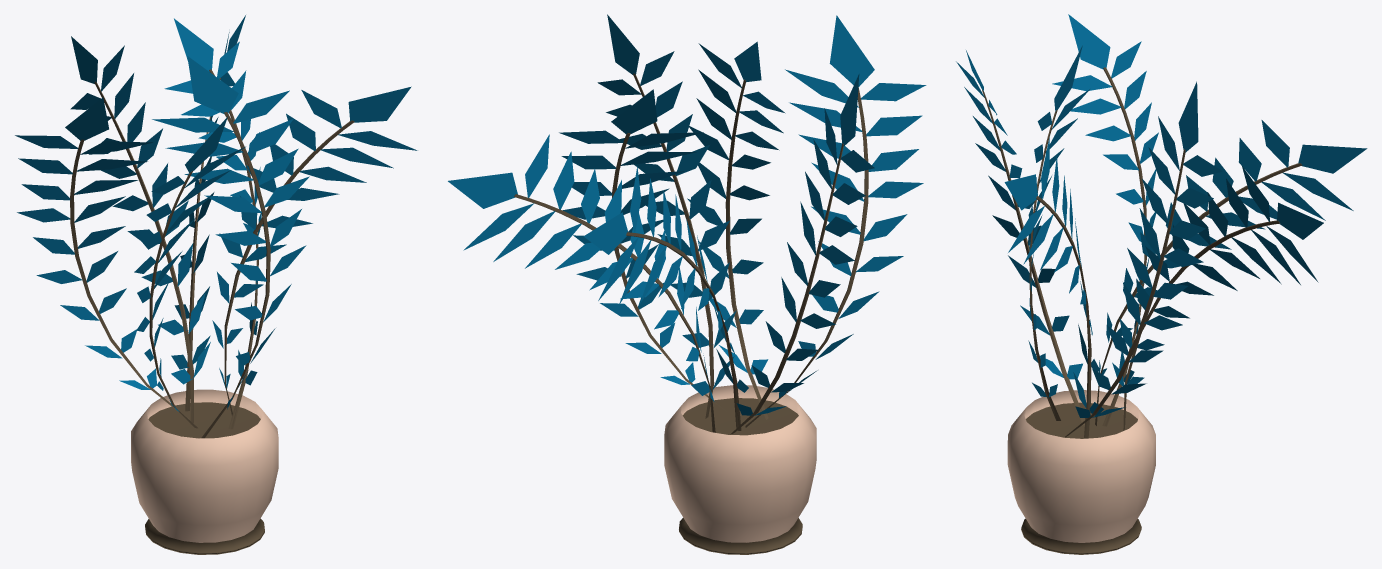
The model's file is plante_bleu.fbx.
The picture shows the model from 3 angles, left to right: view 1: azimuth 30°, elevation 25°; view 2: azimuth 150°, elevation 25°; view 3: azimuth 270°, elevation 25°; orthographic projection. The views are drawn at different scales.
Visible parts, largest first — view 1: pPlane29; view 2: pPlane29; view 3: pPlane29.
Part boxes in pixels (bbox=[...]): pPlane29: bbox=[15, 15, 417, 554]; pPlane29: bbox=[448, 14, 926, 554]; pPlane29: bbox=[956, 14, 1367, 554].
Size of the model in its own units: 51.73 by 70.04 by 54.91.
